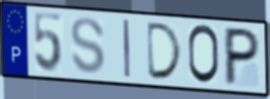5: (33, 10, 65, 75)
D: (146, 21, 185, 82)
I: (121, 18, 132, 80)
O: (187, 23, 221, 87)
P: (222, 25, 262, 87)
S: (69, 15, 107, 76)
